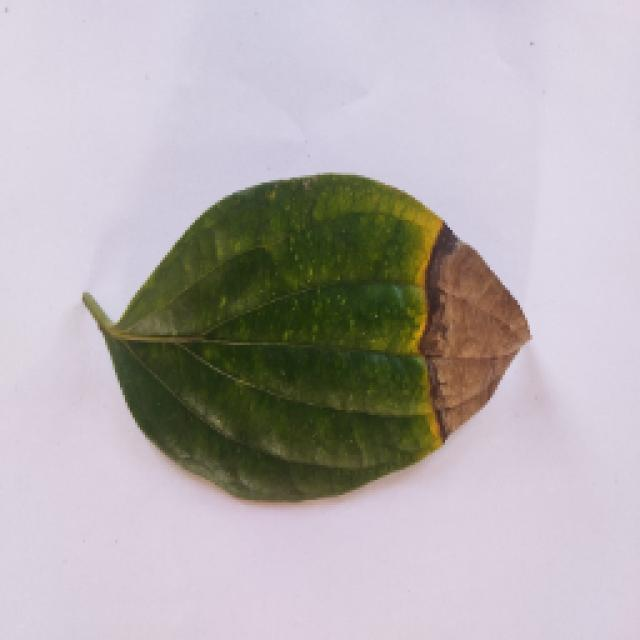footrot: (72, 162, 542, 500)
